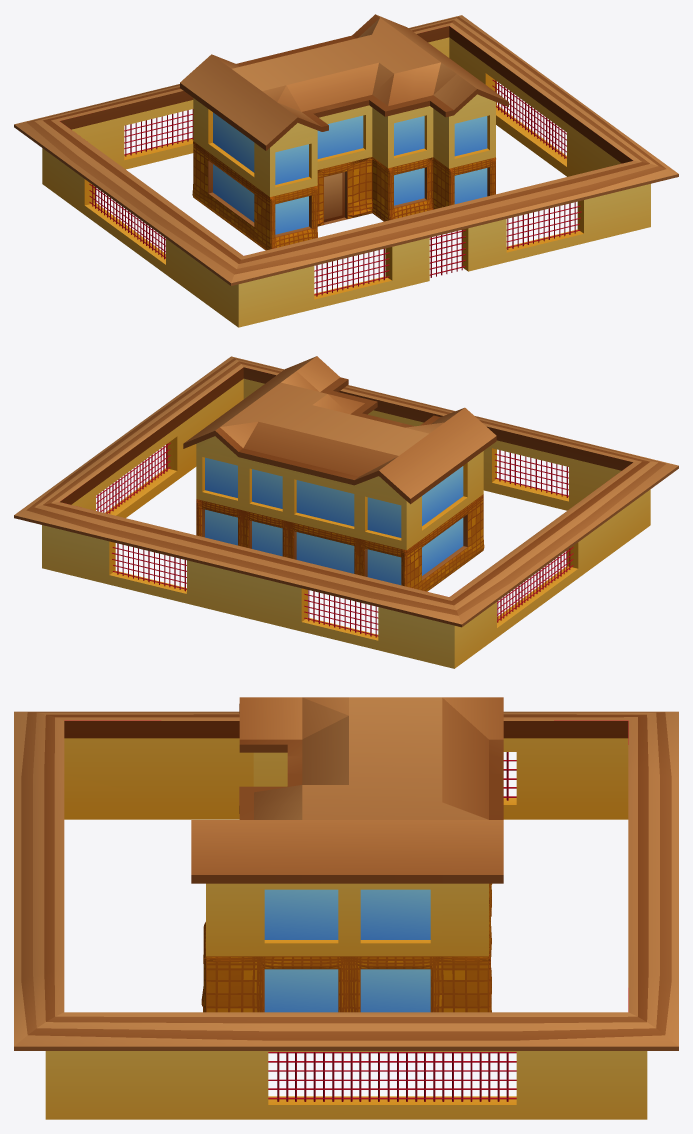
The model's file is casaUsaquen.FBX.
The picture shows the model from 3 angles, top to bottom: view 1: azimuth 30°, elevation 25°; view 2: azimuth 150°, elevation 25°; view 3: azimuth 270°, elevation 25°; orthographic projection. The views are drawn at different scales.
Parts seen in each view (by area): view 1: Wall, House, Windows, Door; view 2: Wall, House, Windows; view 3: Wall, House, Windows.
Part boxes in pixels (x1=…): Wall: x1=14, y1=15, x2=678, y2=327; House: x1=180, y1=14, x2=508, y2=250; Windows: x1=213, y1=112, x2=487, y2=234; Door: x1=429, y1=229, x2=465, y2=277; Wall: x1=14, y1=356, x2=678, y2=668; House: x1=183, y1=356, x2=496, y2=591; Windows: x1=205, y1=457, x2=463, y2=585; Wall: x1=14, y1=711, x2=678, y2=1119; House: x1=191, y1=697, x2=503, y2=1012; Windows: x1=264, y1=889, x2=430, y2=1012.
Size of the model in its own units: 400 by 115 by 336.
